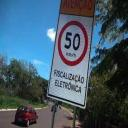speed_limit_50: (57, 20, 89, 67)
